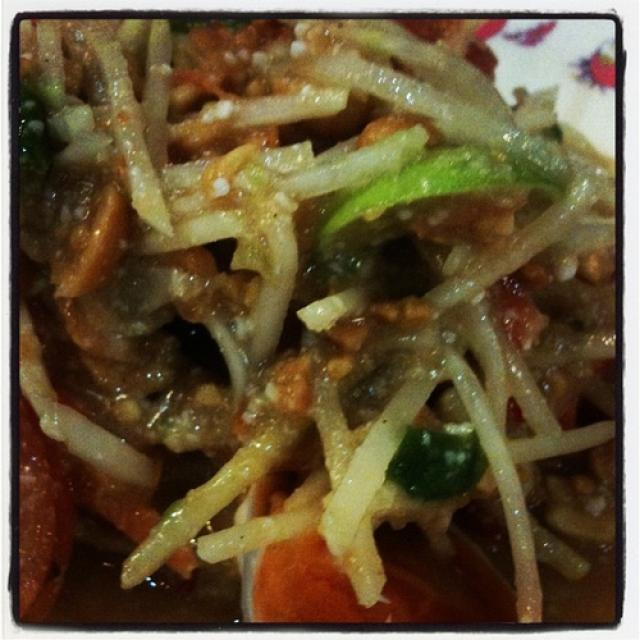蔬菜料理: (33, 26, 603, 604)
